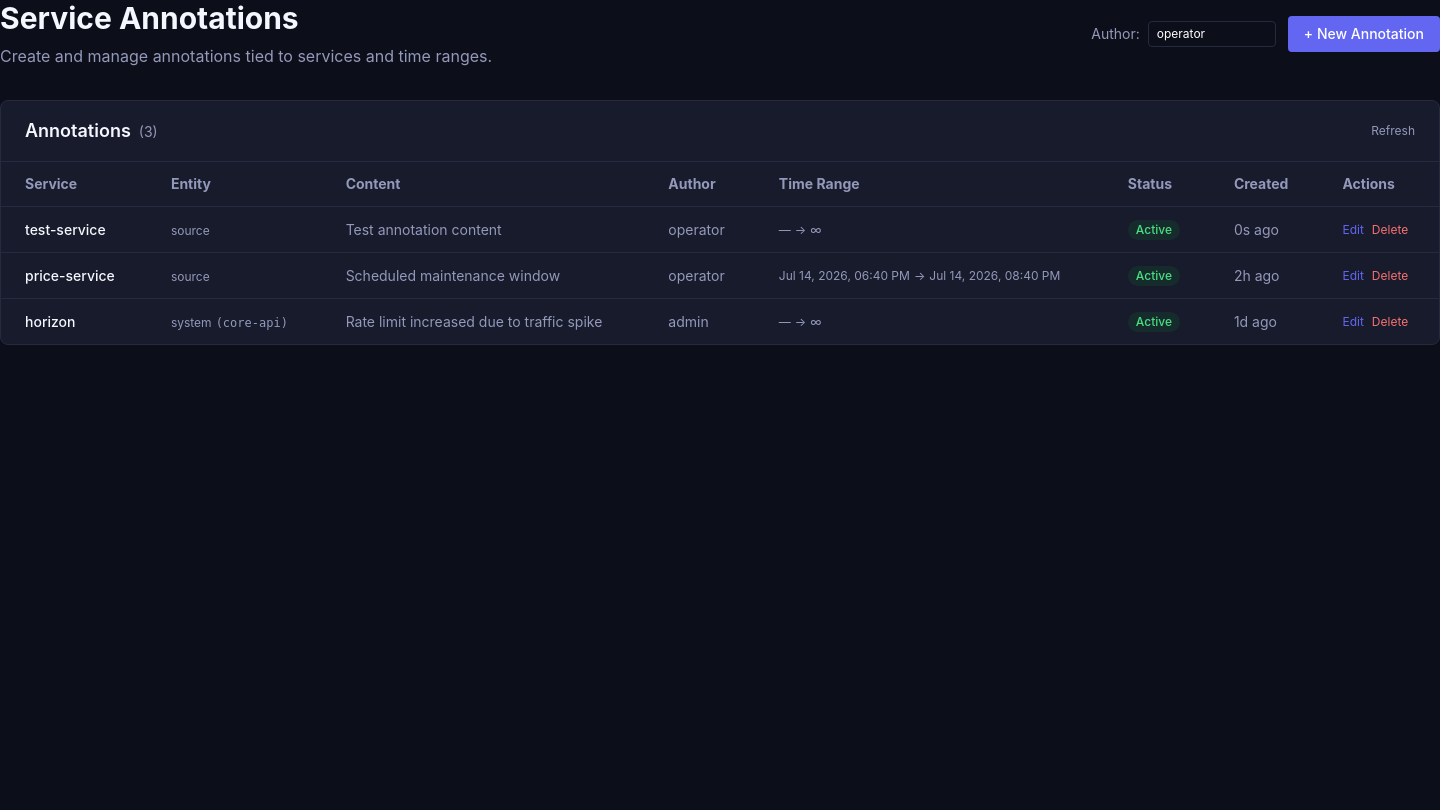
Test: ServiceAnnotations › opens edit form when Edit is clicked
Expected: the text "price-service" is shown, [1,252,147,298]
Click the button with aria-label "Edit annotation for price-service". click: [1353, 276]
box: [1342,268,1364,284]
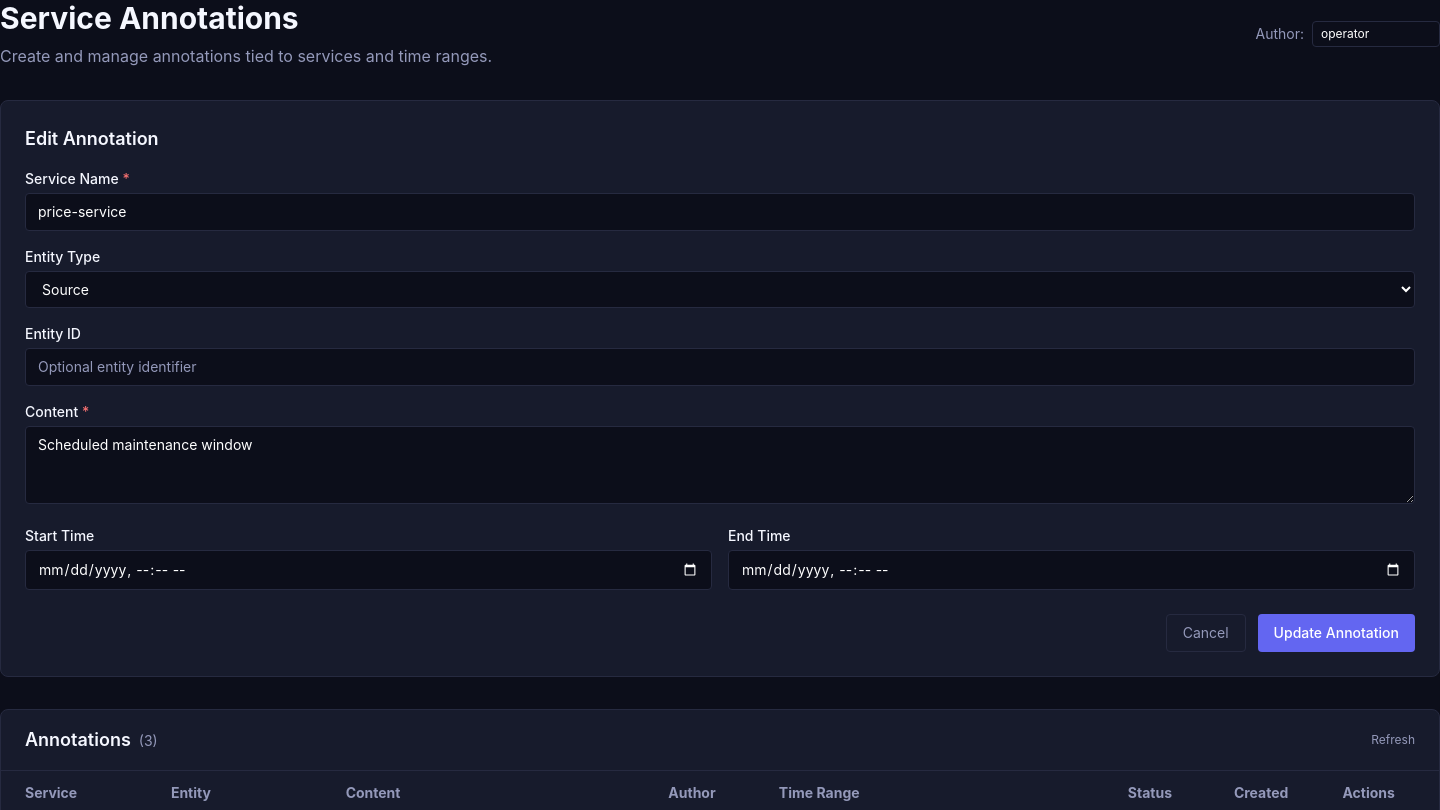
Result: the heading "Edit Annotation" is shown at [25,128,159,149]
Result: the field showing "price-service" is shown at [25,193,1415,231]
Result: the text box showing "Scheduled maintenance window" is shown at [25,426,1415,504]
